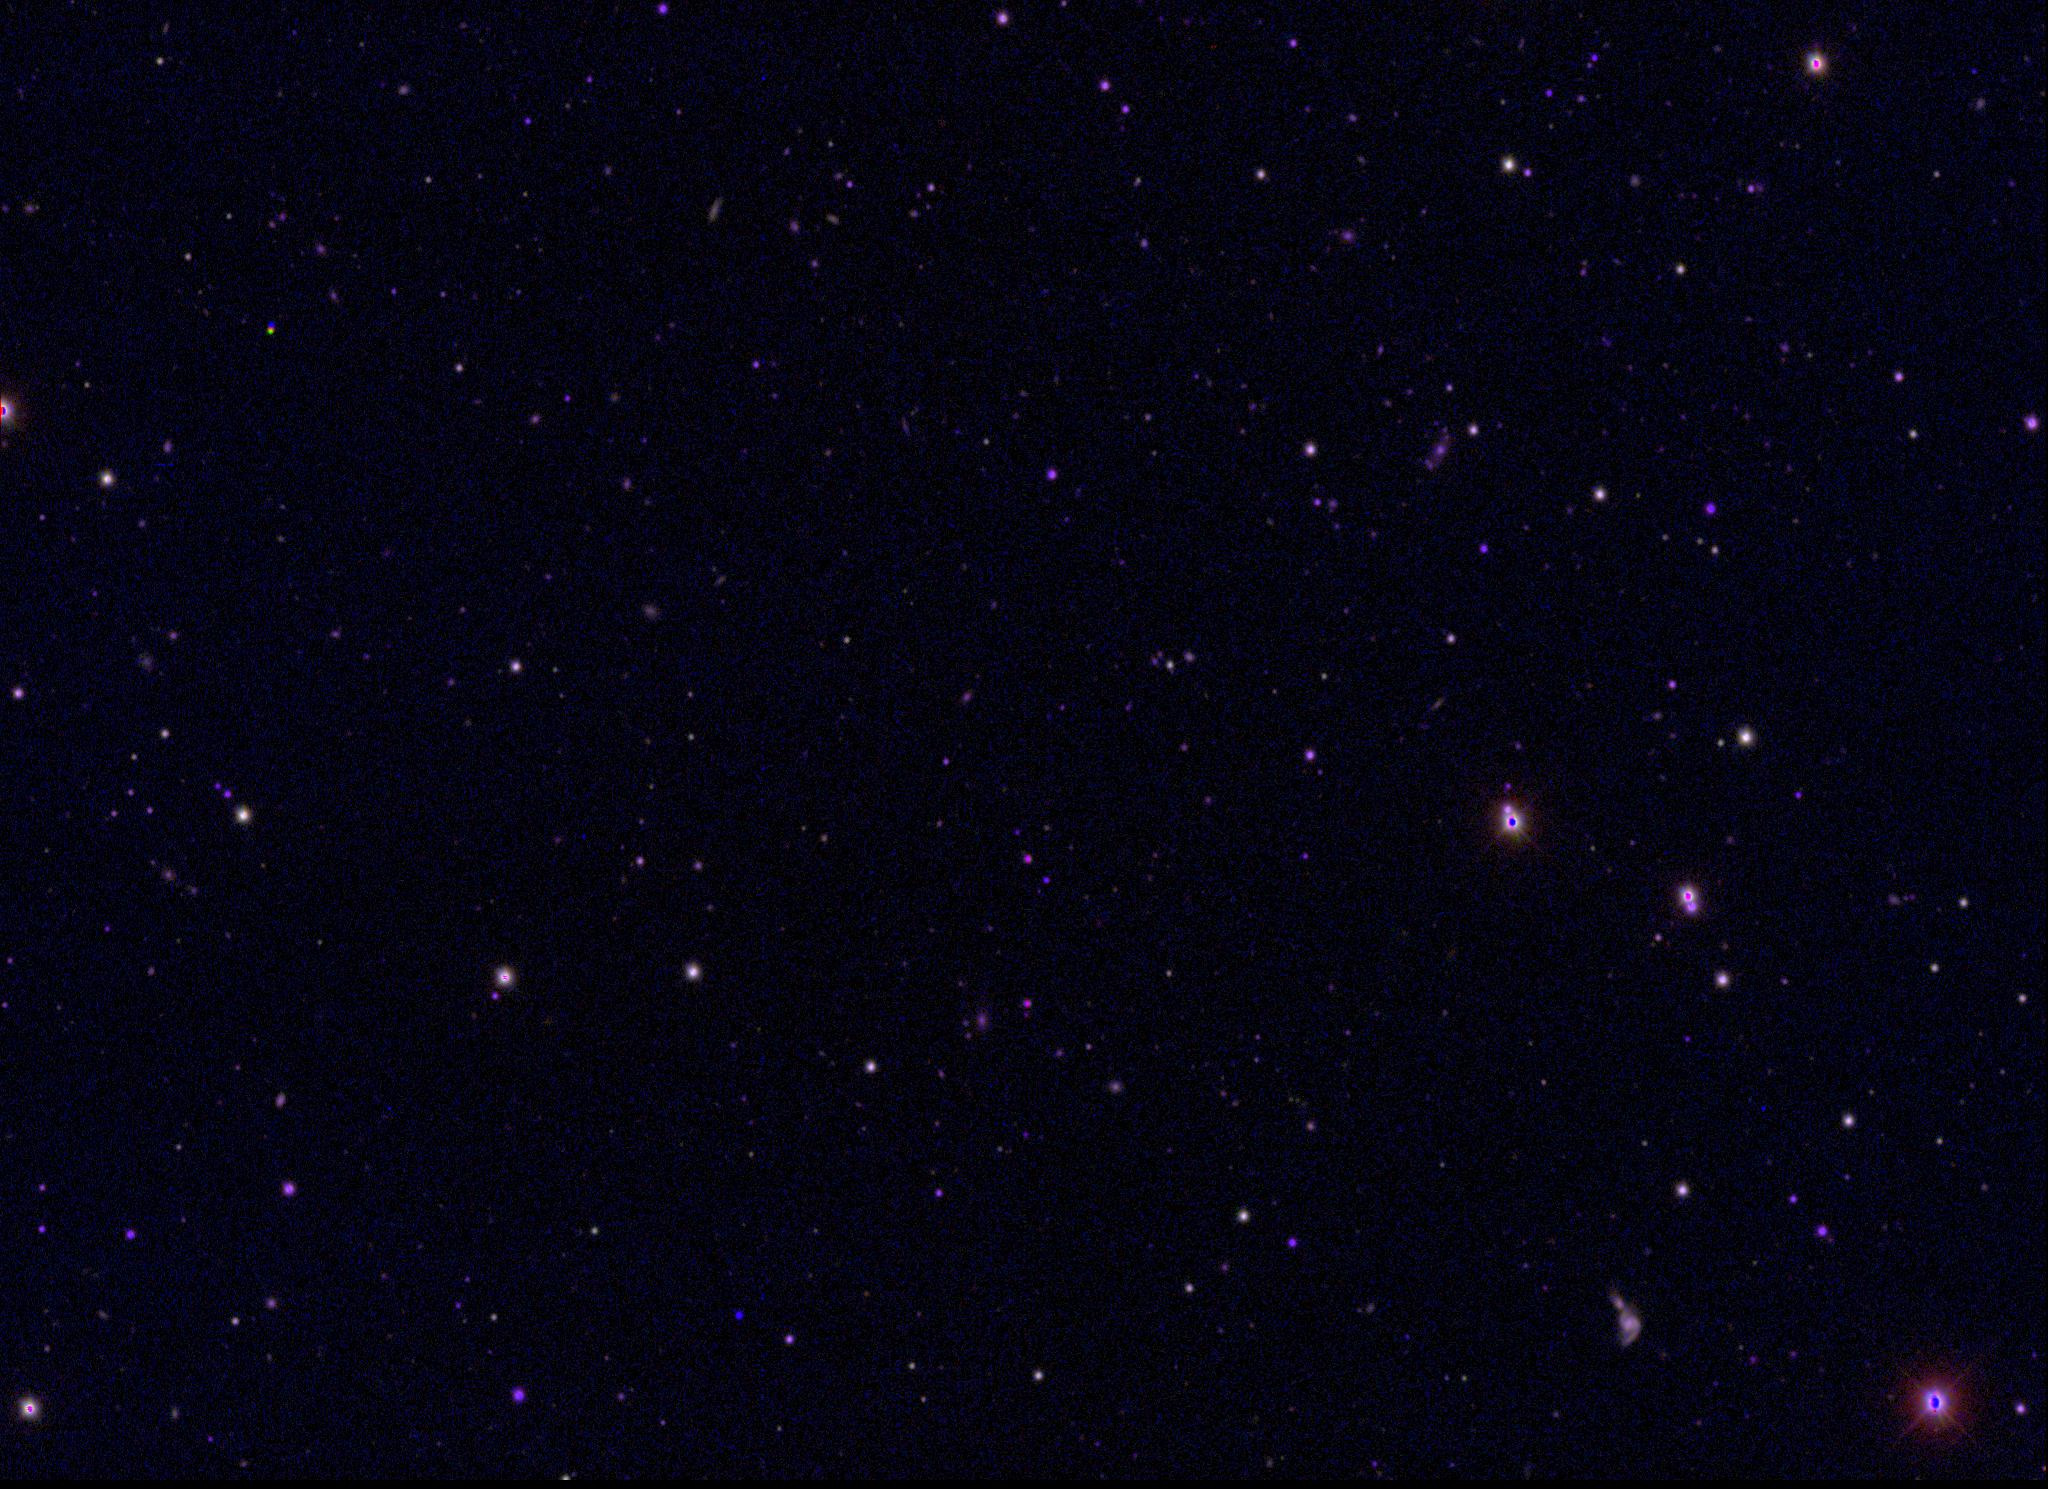L: (731, 1308, 746, 1322)
